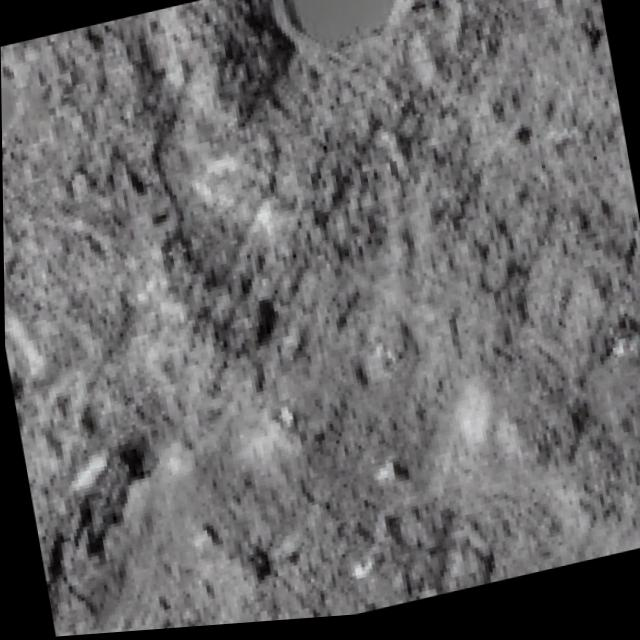Crater: (257, 0, 439, 86), (1, 44, 39, 214)
